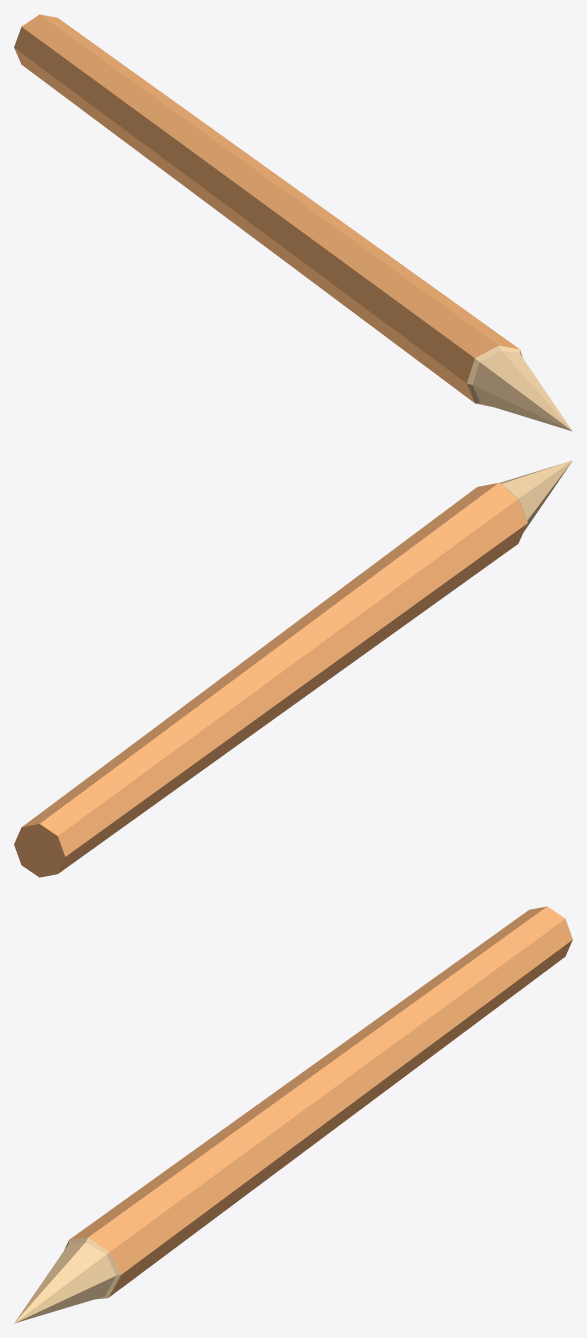
File: ballista.arrow.fbx
3 views of the same model, one above another, from view 1: azimuth 30°, elevation 25°; view 2: azimuth 150°, elevation 25°; view 3: azimuth 330°, elevation 25° (orthographic).
Parts seen in each view (by area): view 1: ballista.arrow; view 2: ballista.arrow; view 3: ballista.arrow.
Boxes of the visible parts, x1,y1,x2,y2 form: ballista.arrow: (14, 14, 572, 431); ballista.arrow: (14, 460, 572, 877); ballista.arrow: (14, 906, 572, 1323).
Bounding box in the file's own units: 0.1715 × 0.1715 × 2.6.
